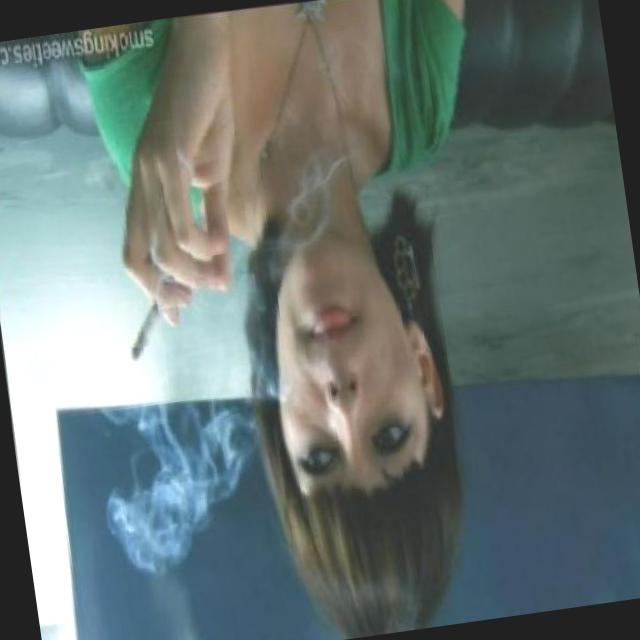smoke: (118, 292, 172, 363)
